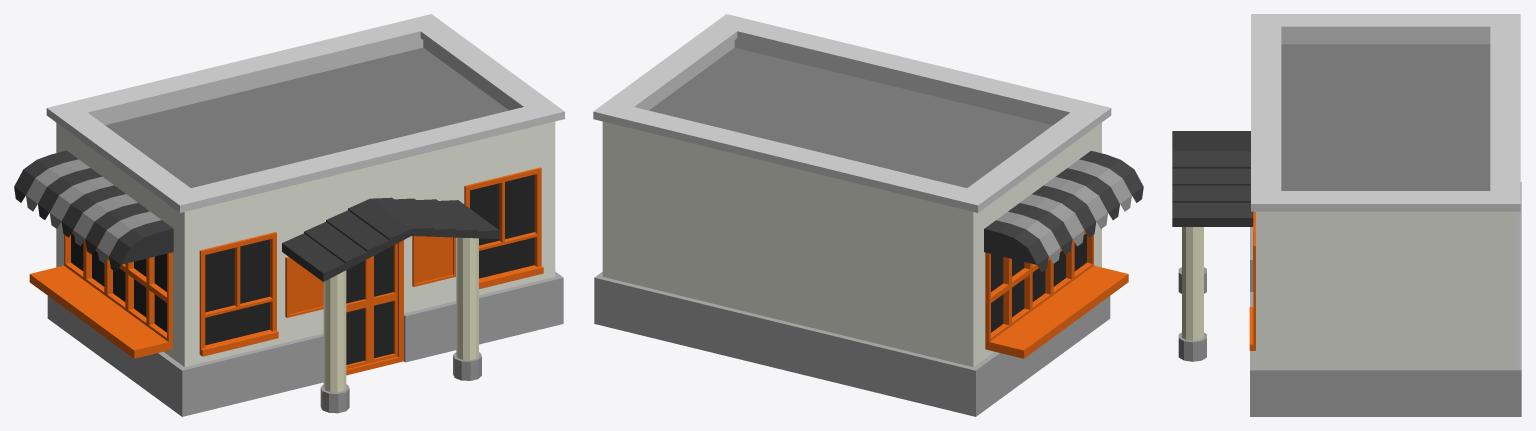
File: home 8.fbx
The picture shows the model from 3 angles, left to right: view 1: azimuth 30°, elevation 25°; view 2: azimuth 150°, elevation 25°; view 3: azimuth 270°, elevation 25°; orthographic projection.
Visible parts, largest first — view 1: Finestra 2.001; view 2: Finestra 2.001; view 3: Finestra 2.001.
Part boxes in pixels (x1,y1,x2,y2): Finestra 2.001: (14, 14, 564, 416); Finestra 2.001: (593, 14, 1143, 416); Finestra 2.001: (1172, 14, 1521, 416).
Size of the model in its own units: 2001 by 936 by 1387.
Materials: 2 (2 with a texture image).
